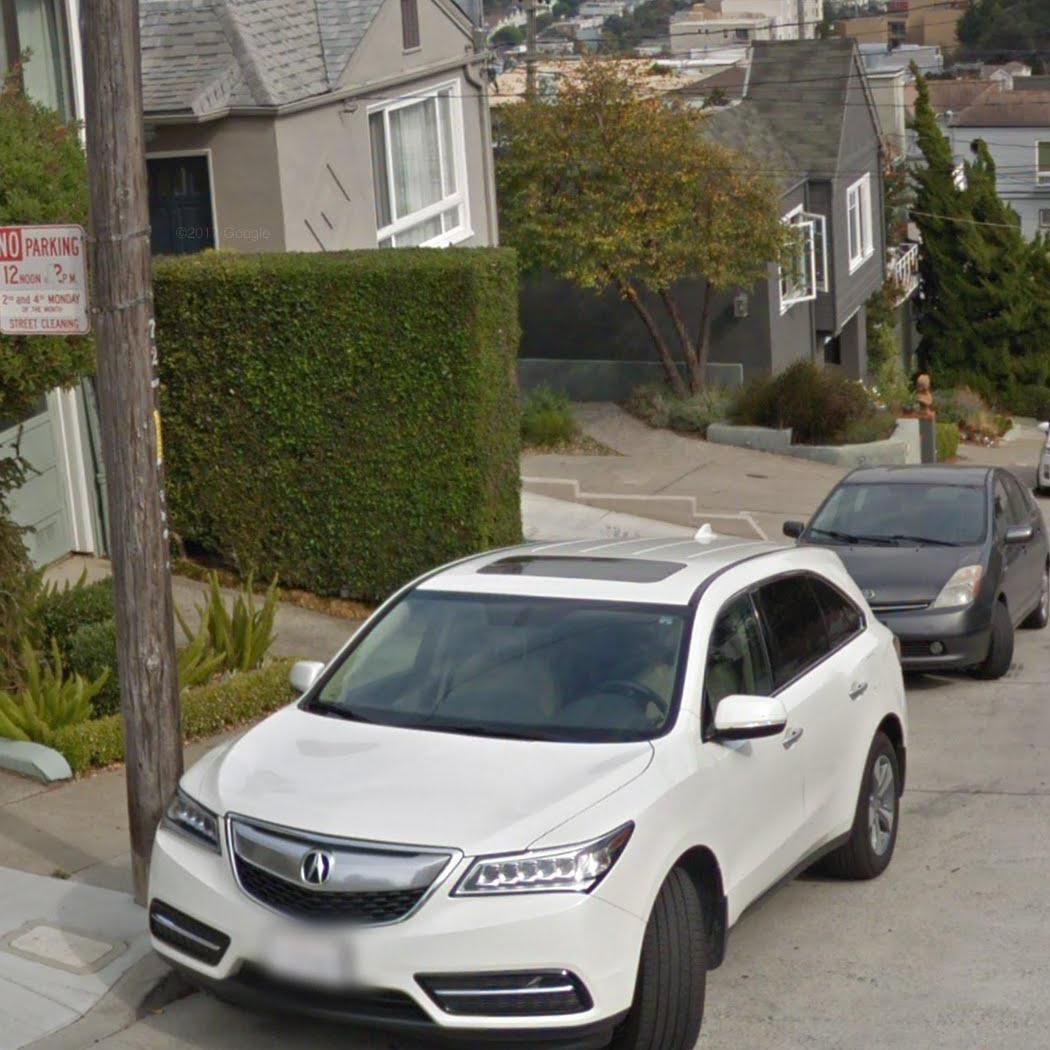No Parking: (1, 220, 92, 338)
